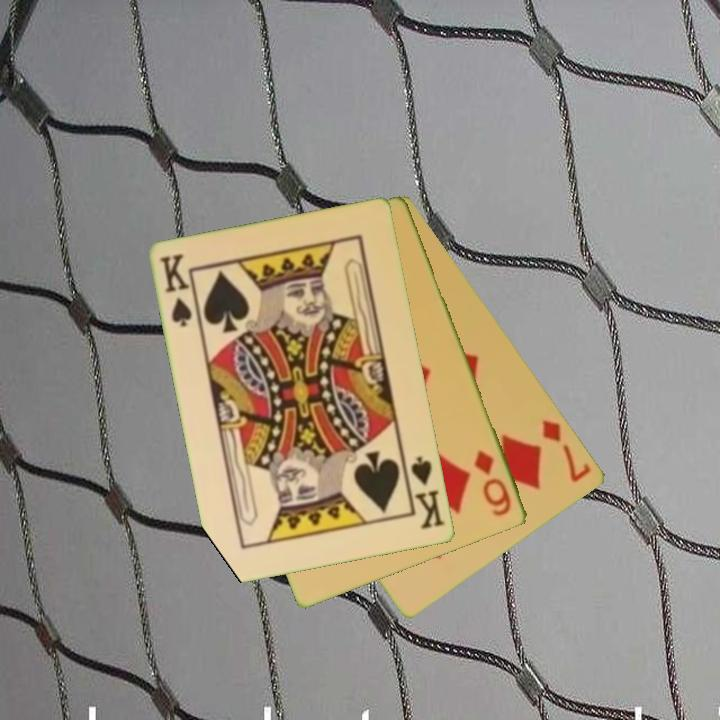6d: (470, 446, 515, 520)
7d: (539, 416, 595, 485)
Ks: (402, 453, 448, 533), (157, 250, 196, 330)
